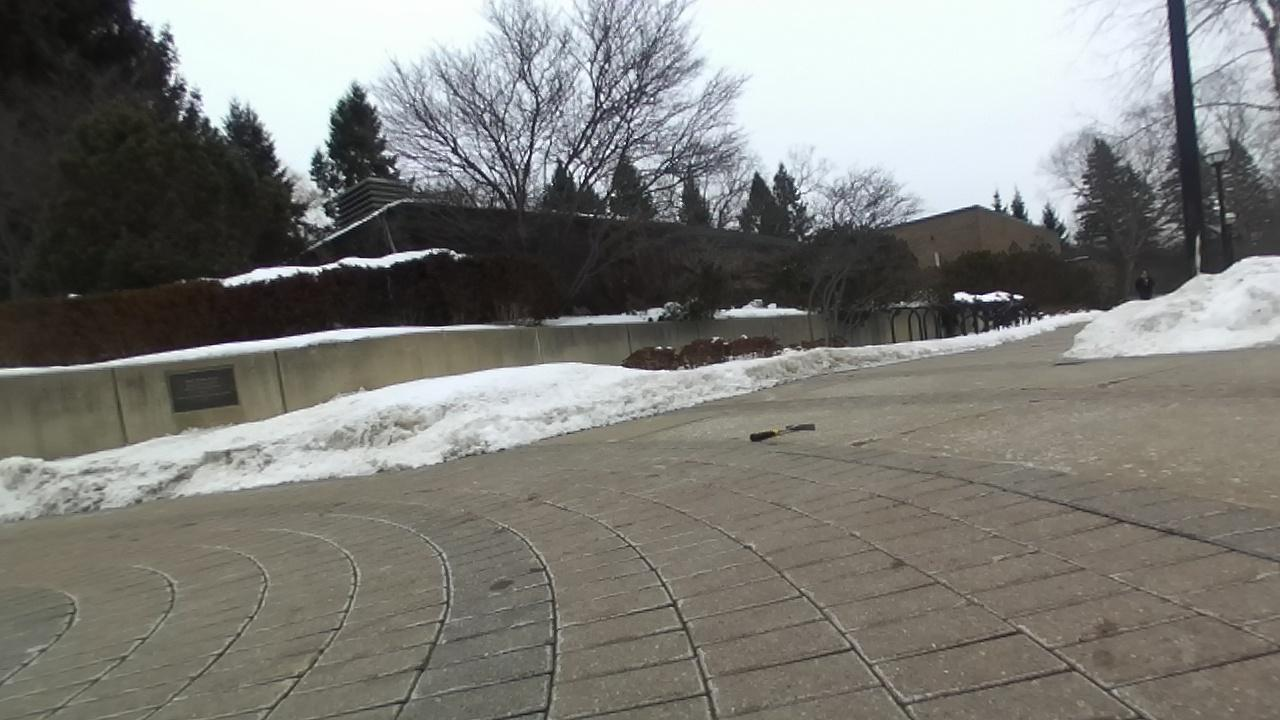pick: (750, 423, 815, 441)
